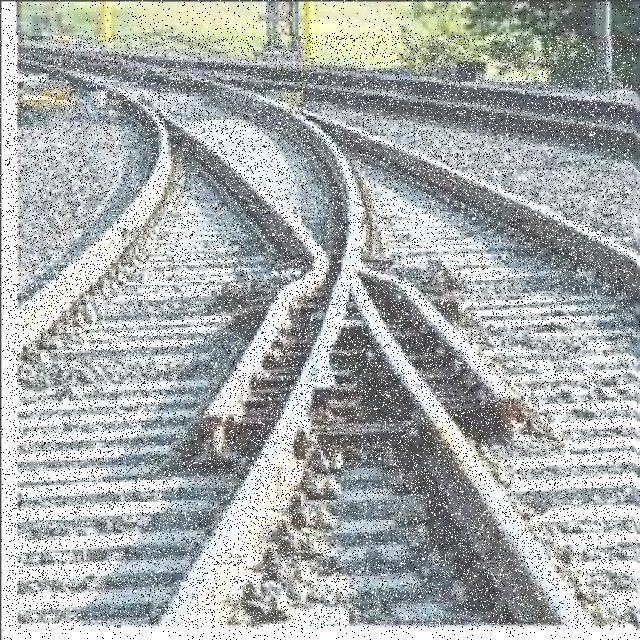rail: (6, 36, 633, 627)
